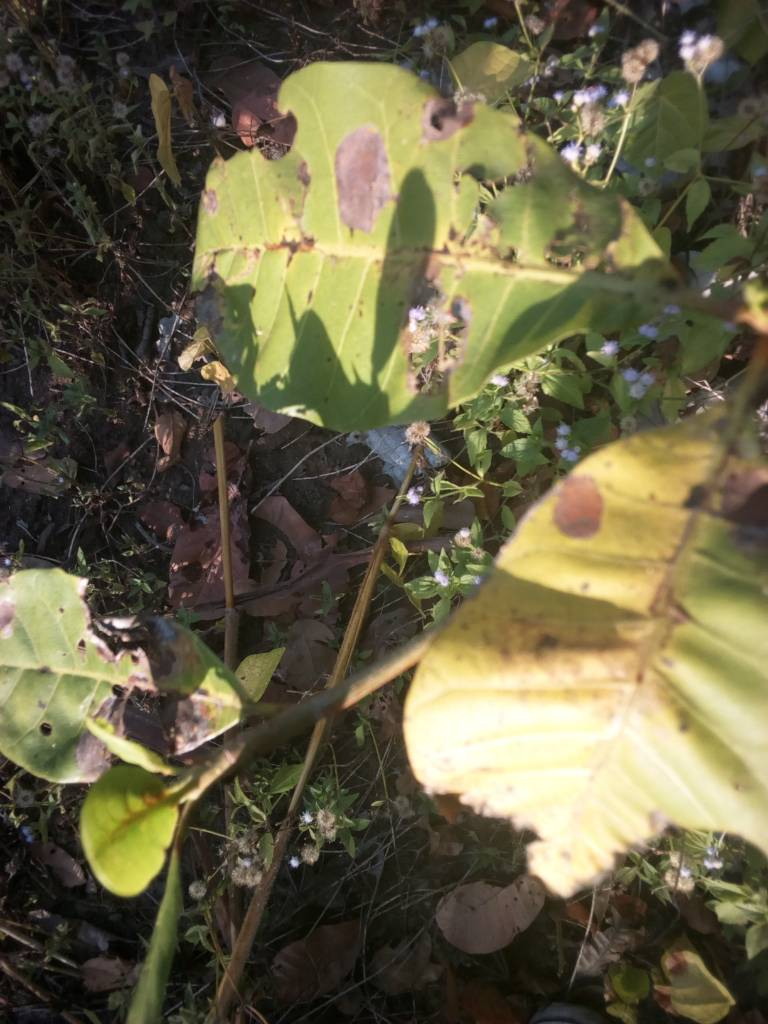Bactériose: (190, 60, 668, 425), (405, 386, 763, 850), (1, 572, 255, 782)
